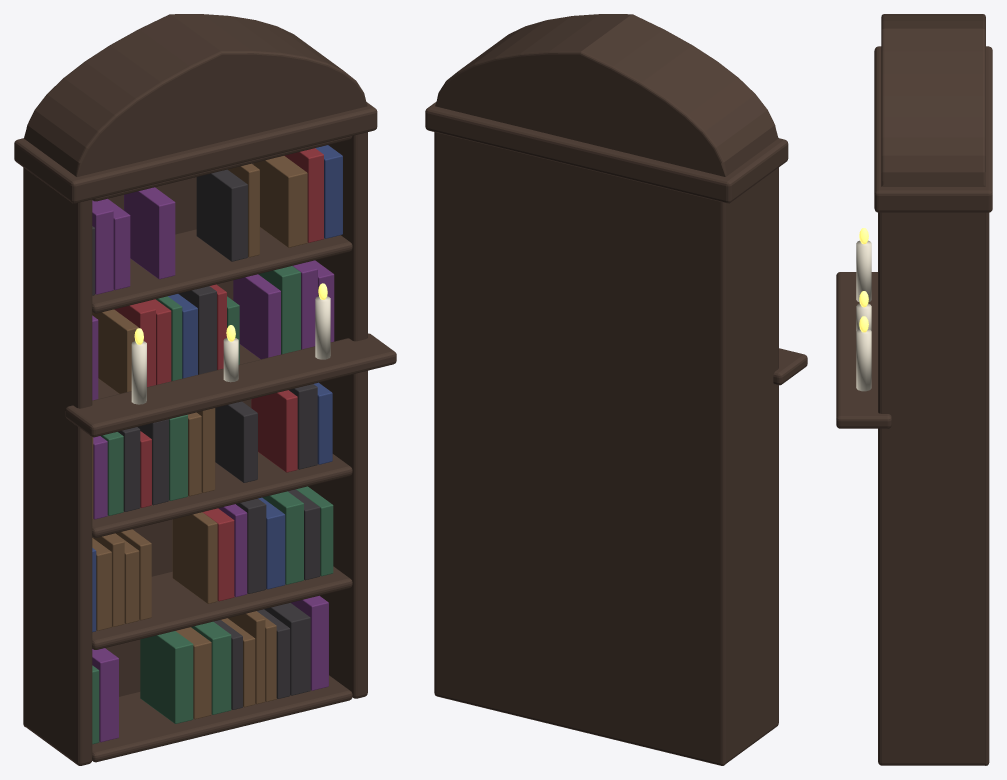
File: bookshelf_candle_ledge.glb
3 views of the same model, side by side, from view 1: azimuth 30°, elevation 25°; view 2: azimuth 150°, elevation 25°; view 3: azimuth 270°, elevation 25° (orthographic).
Visible parts, largest first — view 1: GD_bookshelf_candle_ledge__m0, GD_bookshelf_candle_ledge__m3, GD_bookshelf_candle_ledge__m4, GD_bookshelf_candle_ledge__m1, GD_bookshelf_candle_ledge__m2, GD_bookshelf_candle_ledge__m6, GD_bookshelf_candle_ledge__m5, GD_bookshelf_candle_ledge__m7; view 2: GD_bookshelf_candle_ledge__m0; view 3: GD_bookshelf_candle_ledge__m0, GD_bookshelf_candle_ledge__m7, GD_bookshelf_candle_ledge__m8.
Part boxes in pixels (x1=…): GD_bookshelf_candle_ledge__m0: x1=14, y1=14, x2=396, y2=765; GD_bookshelf_candle_ledge__m3: x1=92, y1=156, x2=307, y2=719; GD_bookshelf_candle_ledge__m4: x1=92, y1=169, x2=320, y2=709; GD_bookshelf_candle_ledge__m1: x1=92, y1=187, x2=334, y2=742; GD_bookshelf_candle_ledge__m2: x1=92, y1=266, x2=333, y2=744; GD_bookshelf_candle_ledge__m6: x1=114, y1=148, x2=323, y2=601; GD_bookshelf_candle_ledge__m5: x1=92, y1=145, x2=342, y2=632; GD_bookshelf_candle_ledge__m7: x1=131, y1=296, x2=330, y2=404; GD_bookshelf_candle_ledge__m0: x1=425, y1=14, x2=807, y2=765; GD_bookshelf_candle_ledge__m0: x1=836, y1=14, x2=992, y2=765; GD_bookshelf_candle_ledge__m7: x1=856, y1=240, x2=871, y2=391; GD_bookshelf_candle_ledge__m8: x1=859, y1=228, x2=868, y2=332.
Size of the model in its own units: 1 by 2.12 by 0.45.
